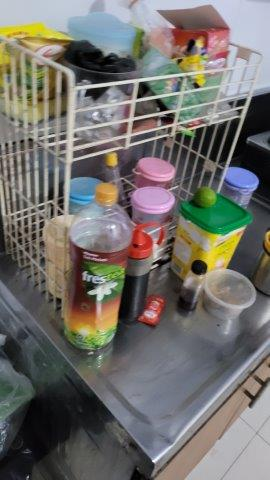botolplastik: (64, 183, 134, 357)
